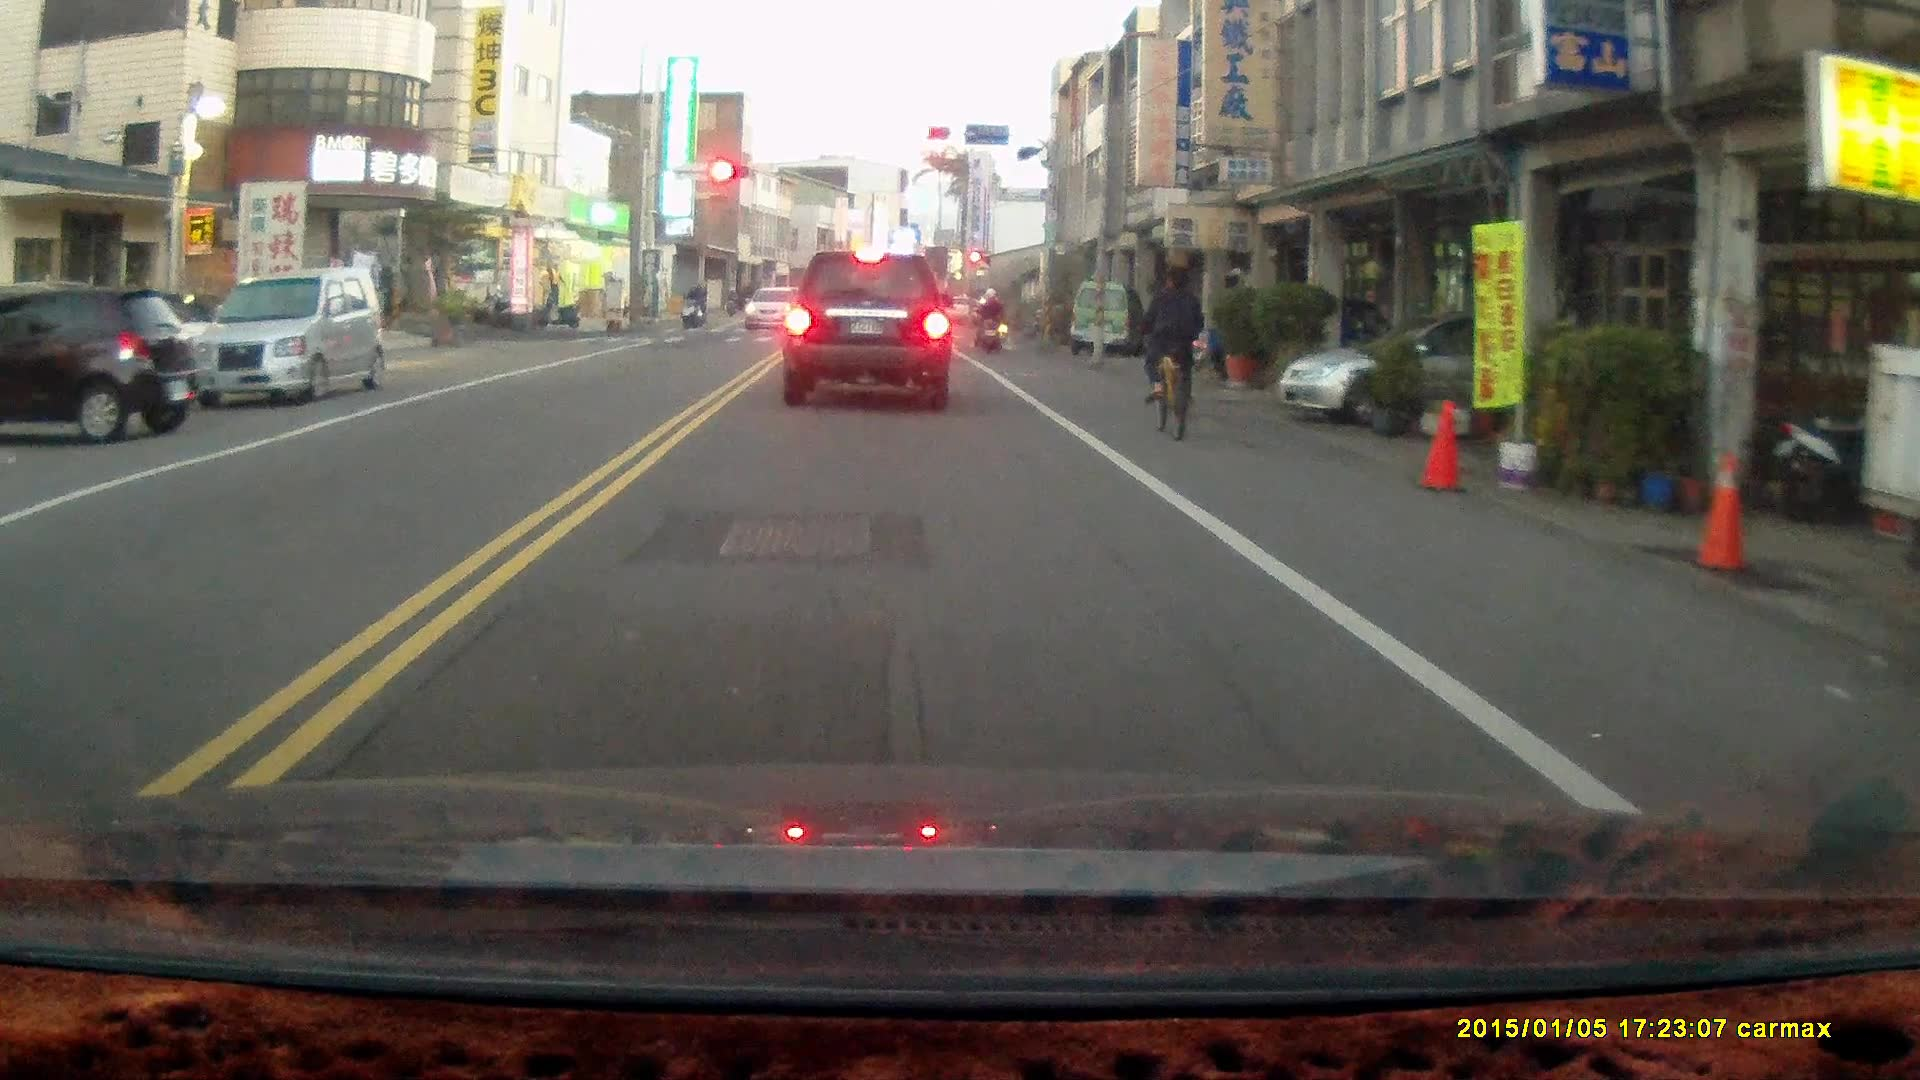rider: (1138, 264, 1204, 441), (973, 282, 1008, 353), (677, 281, 702, 331)
vehicle: (1274, 313, 1610, 427), (1, 284, 206, 445), (189, 265, 388, 410), (780, 249, 955, 410), (1067, 283, 1139, 360)
